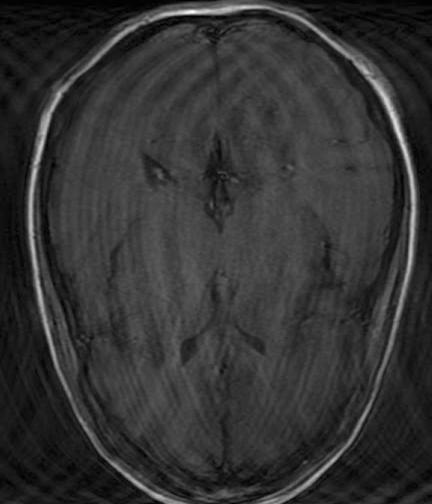Normal_Brain: (1, 1, 420, 504)
